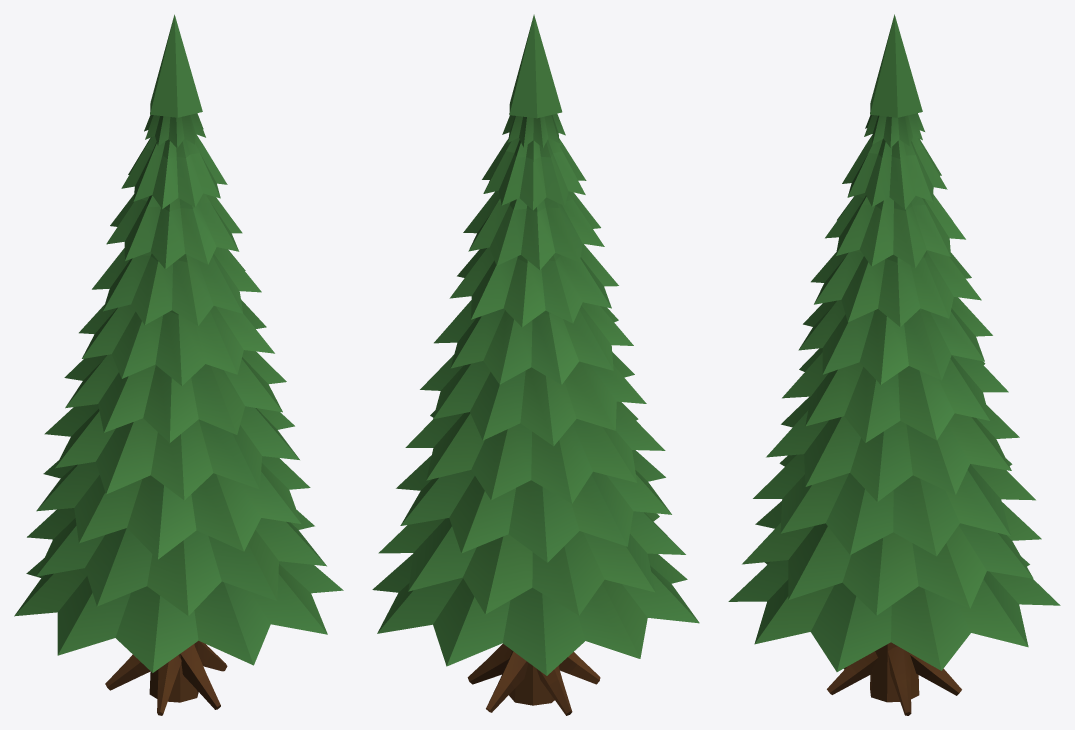
The model's file is tree_big_fir.glb.
3 views of the same model, side by side, from view 1: azimuth 30°, elevation 25°; view 2: azimuth 150°, elevation 25°; view 3: azimuth 270°, elevation 25° (orthographic).
Bounding box in the file's own units: 6.35 × 14.6 × 6.49.
